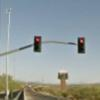traffic lights: (34, 37, 42, 52), (78, 38, 86, 53)
